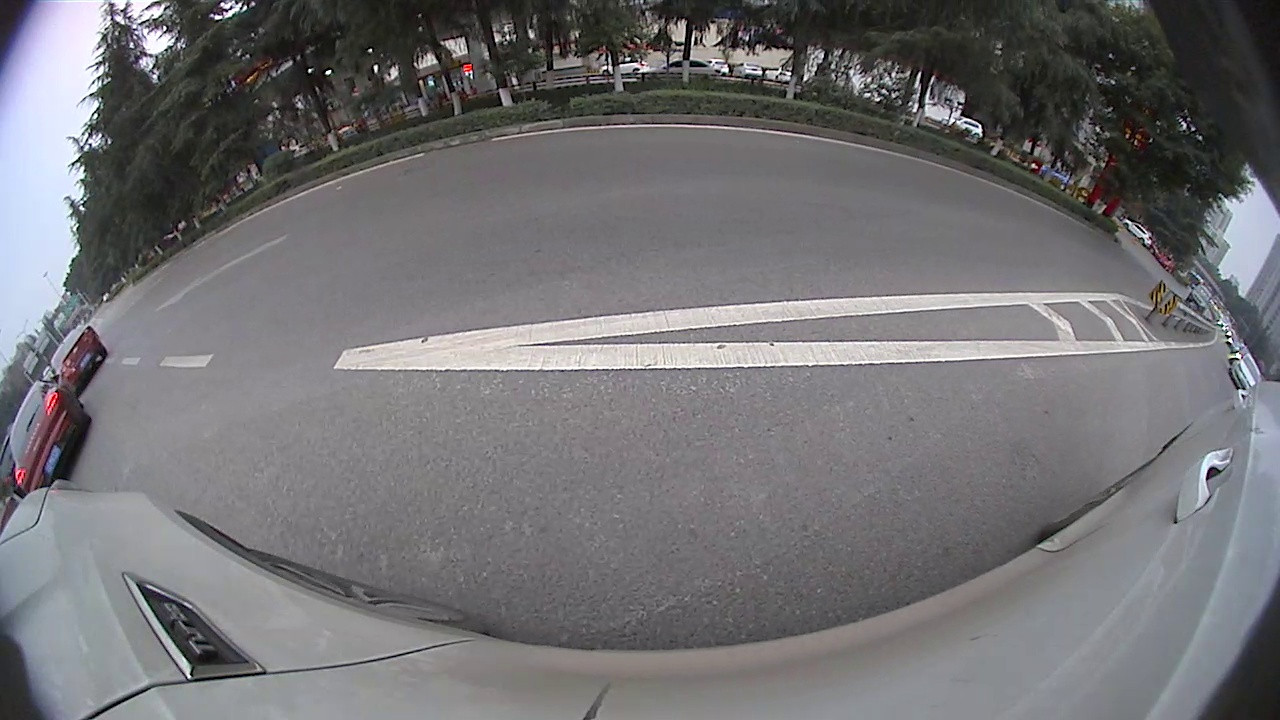car: (11, 382, 92, 493), (46, 322, 109, 398)
